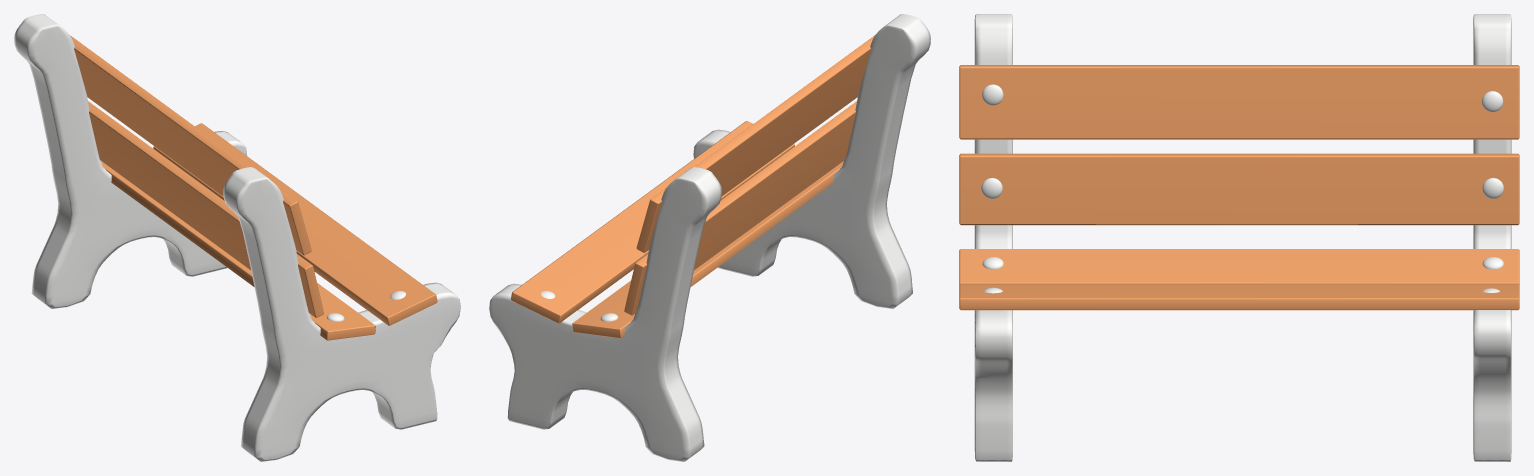
The model's file is benchTextured3.fbx.
3 renders of one model, left to right at view 1: azimuth 30°, elevation 25°; view 2: azimuth 150°, elevation 25°; view 3: azimuth 270°, elevation 25°, orthographic. The views are drawn at different scales.
Visible parts, largest first — view 1: pCube13; view 2: pCube13; view 3: pCube13.
Boxes of the visible parts, x1,y1,x2,y2 form: pCube13: (14, 14, 460, 461); pCube13: (489, 14, 930, 461); pCube13: (959, 14, 1519, 461).
Bounding box in the file's own units: 75.49 × 92.5 × 138.
